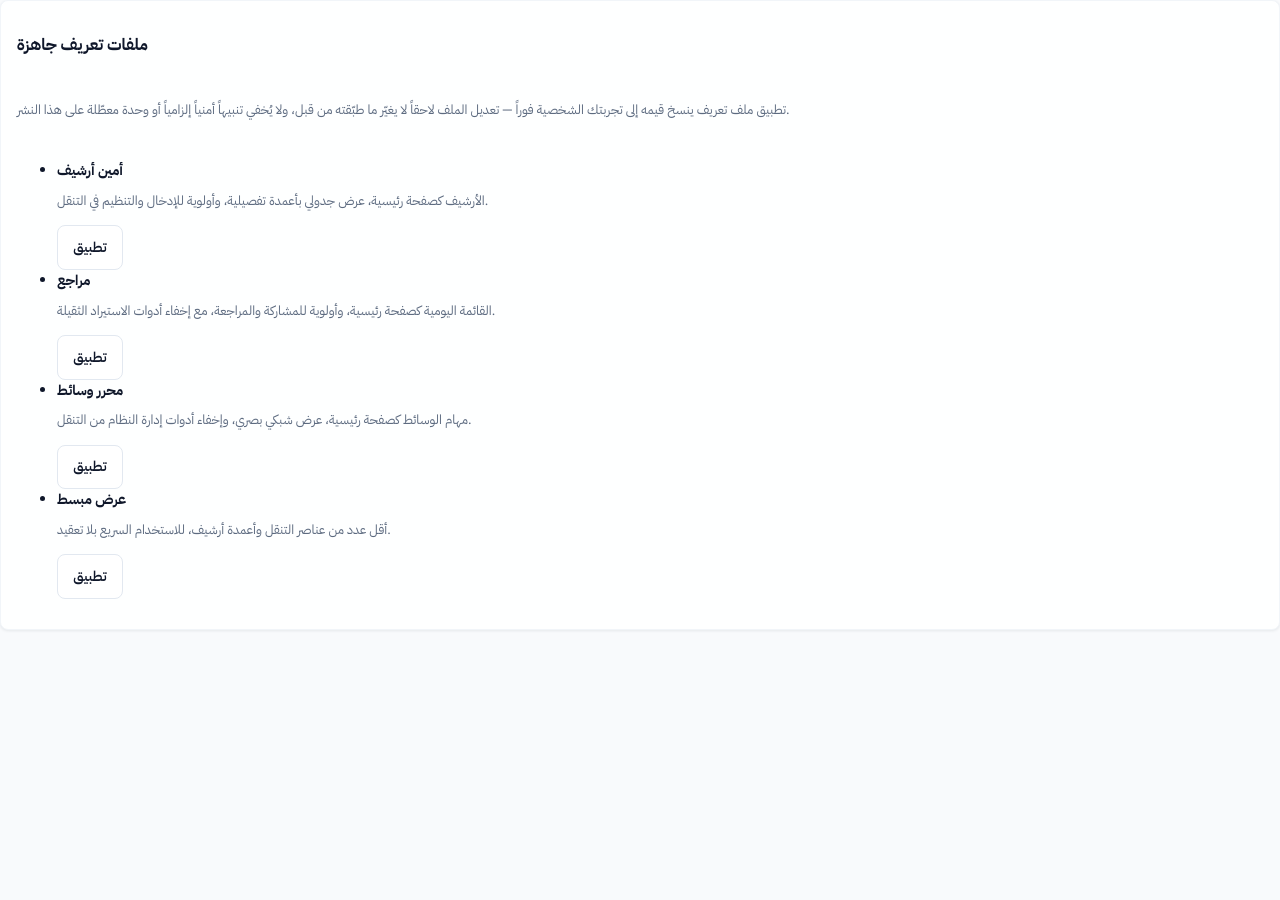
Test: PresetsSection › surfaces a write failure instead of silently discarding it
What coordinates should you click on to do the following:
click the button "تطبيق" below "أمين أرشيف"
I would click on:
 (90, 248)
Its box is [57,225,123,270].
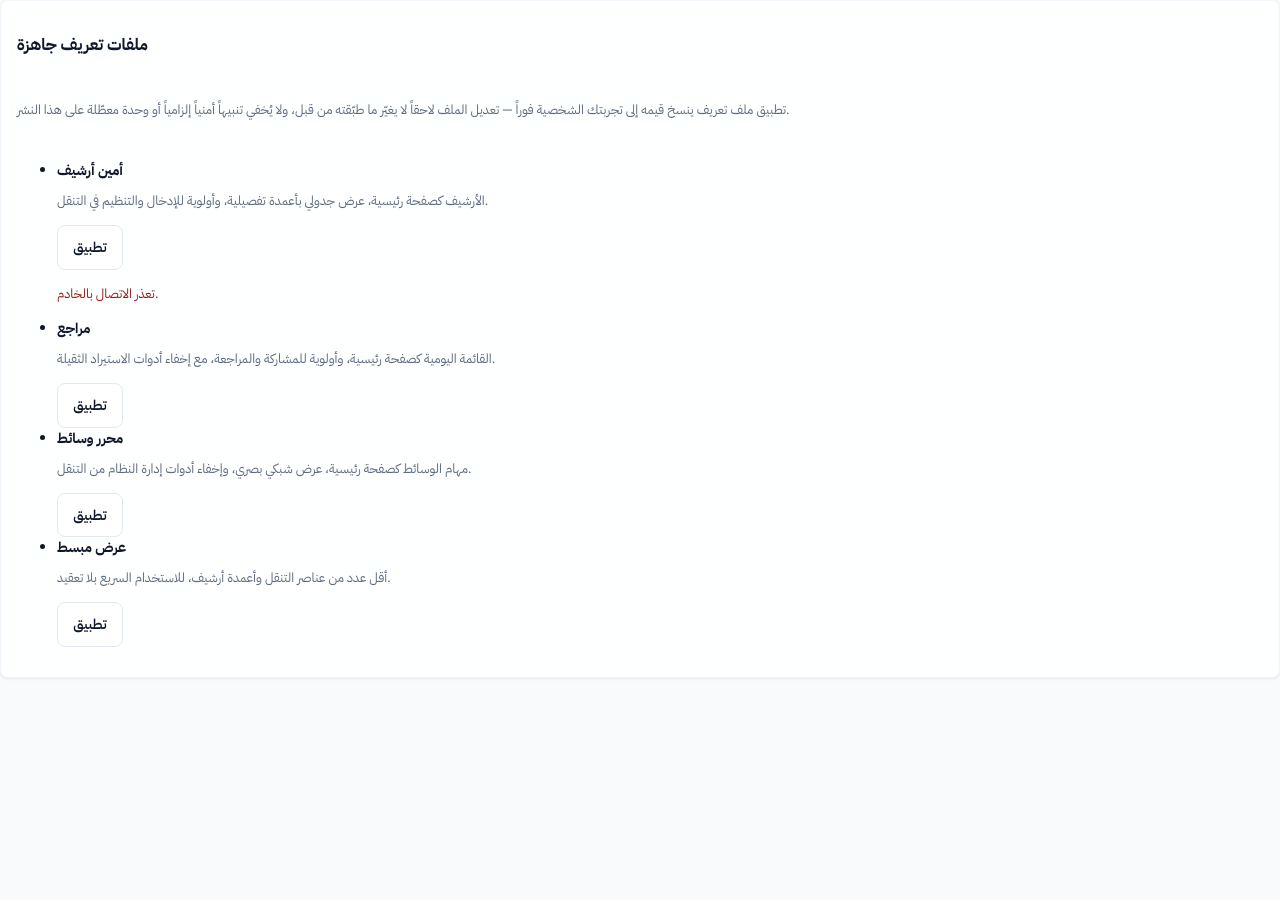
Expected: the text "تعذر الاتصال بالخادم." is shown, [57,284,158,303]
